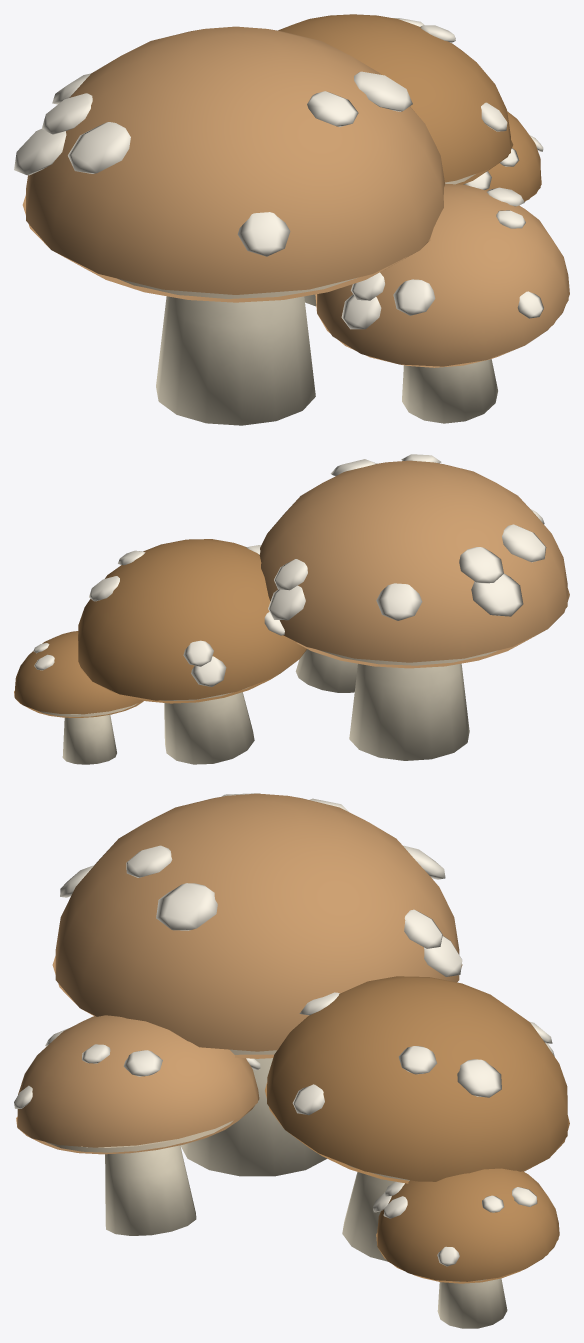
Rendered from mushroom.glb.
3 renders of one model, top to bottom at view 1: azimuth 30°, elevation 25°; view 2: azimuth 150°, elevation 25°; view 3: azimuth 270°, elevation 25°, orthographic. The views are drawn at different scales.
Parts seen in each view (by area): view 1: mushroom (×4); view 2: mushroom (×4); view 3: mushroom (×4).
Boxes of the visible parts, left/top/right/bottom form: mushroom (×4): left=14, top=14, right=569, bottom=425; mushroom (×4): left=14, top=454, right=569, bottom=764; mushroom (×4): left=14, top=793, right=569, bottom=1328.
Size of the model in its own units: 0.1854 by 0.1098 by 0.1573.
5 materials, 1 textured.
